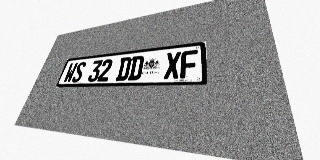2: (97, 59, 113, 81)
3: (87, 60, 103, 82)
D: (127, 55, 145, 80), (115, 57, 132, 81)
F: (180, 50, 198, 79)
S: (71, 61, 87, 82)
W: (62, 62, 78, 83)
X: (164, 51, 181, 79)
